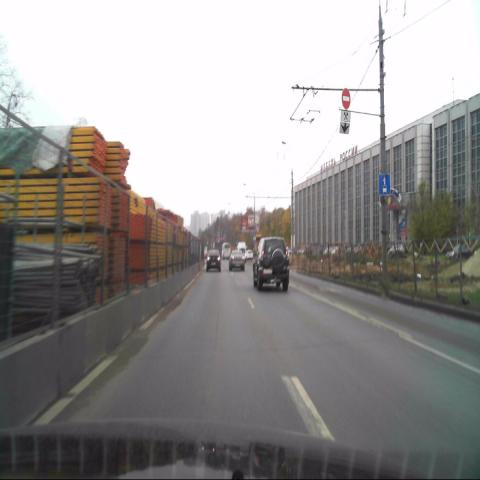5_14: (378, 174, 390, 195)
